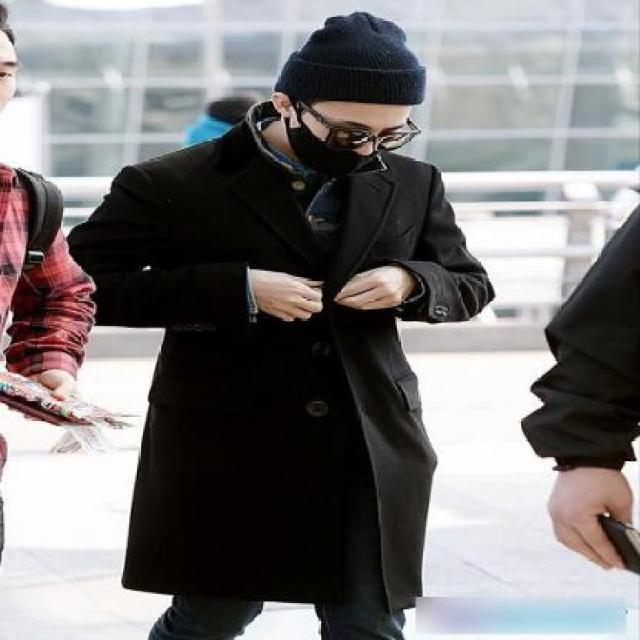Person: (156, 6, 435, 640)
